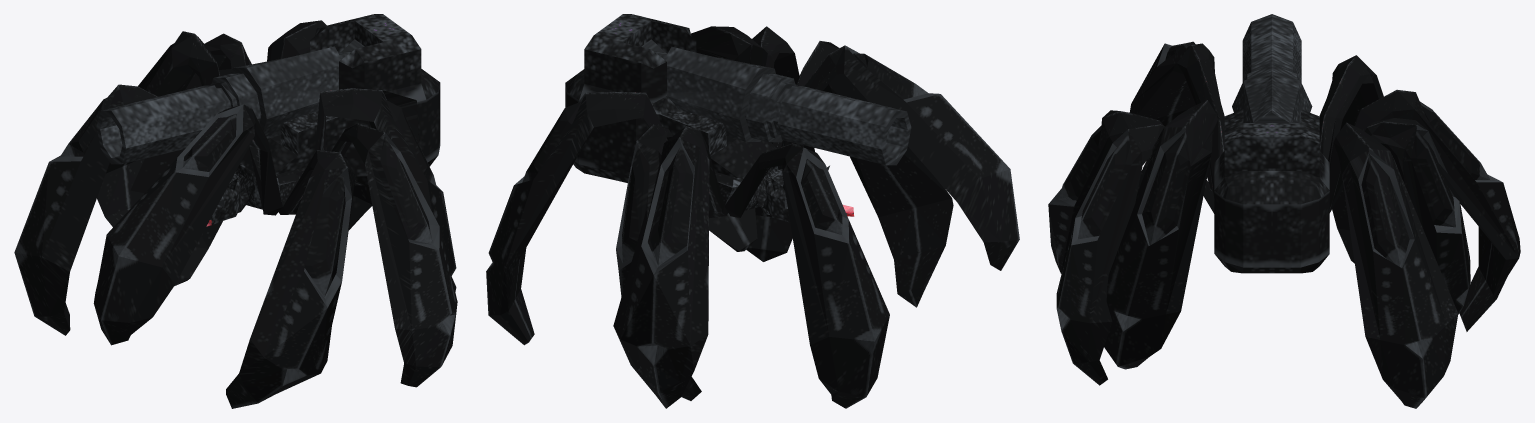
The model's file is mech_spider.glb.
The picture shows the model from 3 angles, left to right: view 1: azimuth 30°, elevation 25°; view 2: azimuth 150°, elevation 25°; view 3: azimuth 270°, elevation 25°; orthographic projection.
Parts seen in each view (by area): view 1: MechSpider; view 2: MechSpider; view 3: MechSpider.
Boxes of the visible parts, bbox=[...] form: MechSpider: bbox=[14, 14, 457, 408]; MechSpider: bbox=[486, 14, 1019, 408]; MechSpider: bbox=[1048, 14, 1520, 408].
Size of the model in its own units: 1.74 by 1.18 by 1.8.
Materials: 1 (1 with a texture image).
